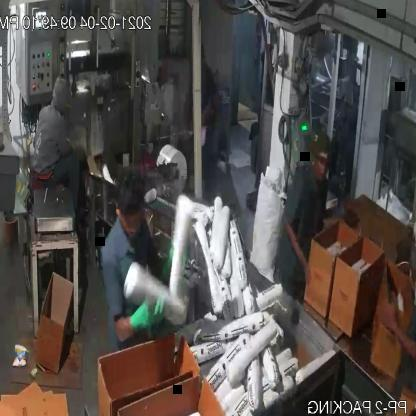glove: (125, 286, 168, 338), (157, 243, 192, 286)
no_glove: (273, 211, 320, 290), (374, 298, 416, 372)
